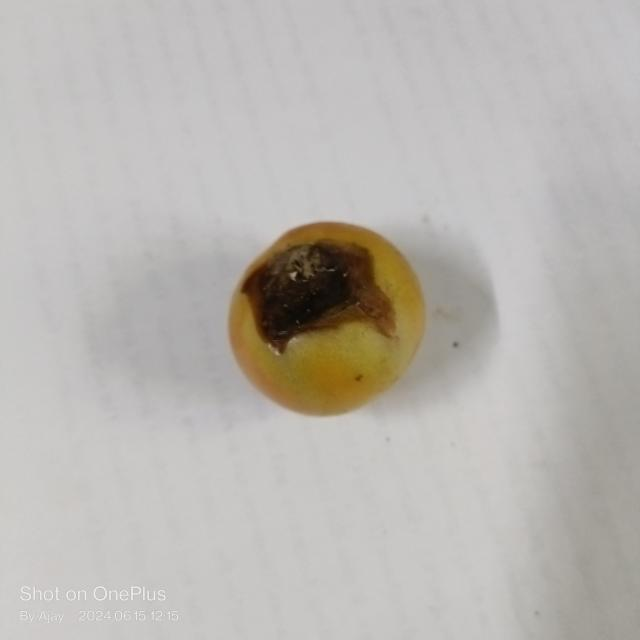Anthrocnose: (232, 239, 391, 350)
